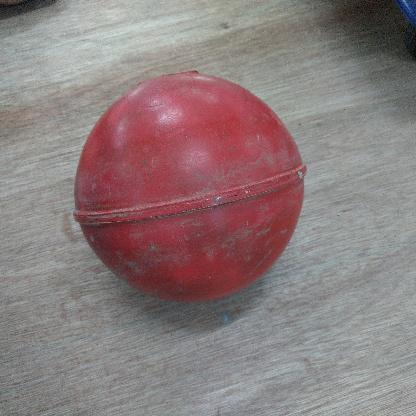red_buoy: (72, 69, 306, 301)
